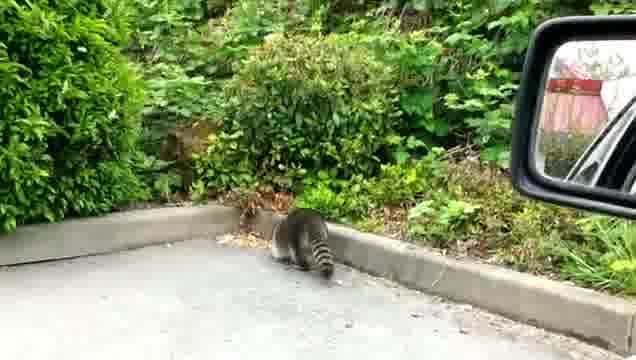raccoon: (269, 206, 337, 281)
